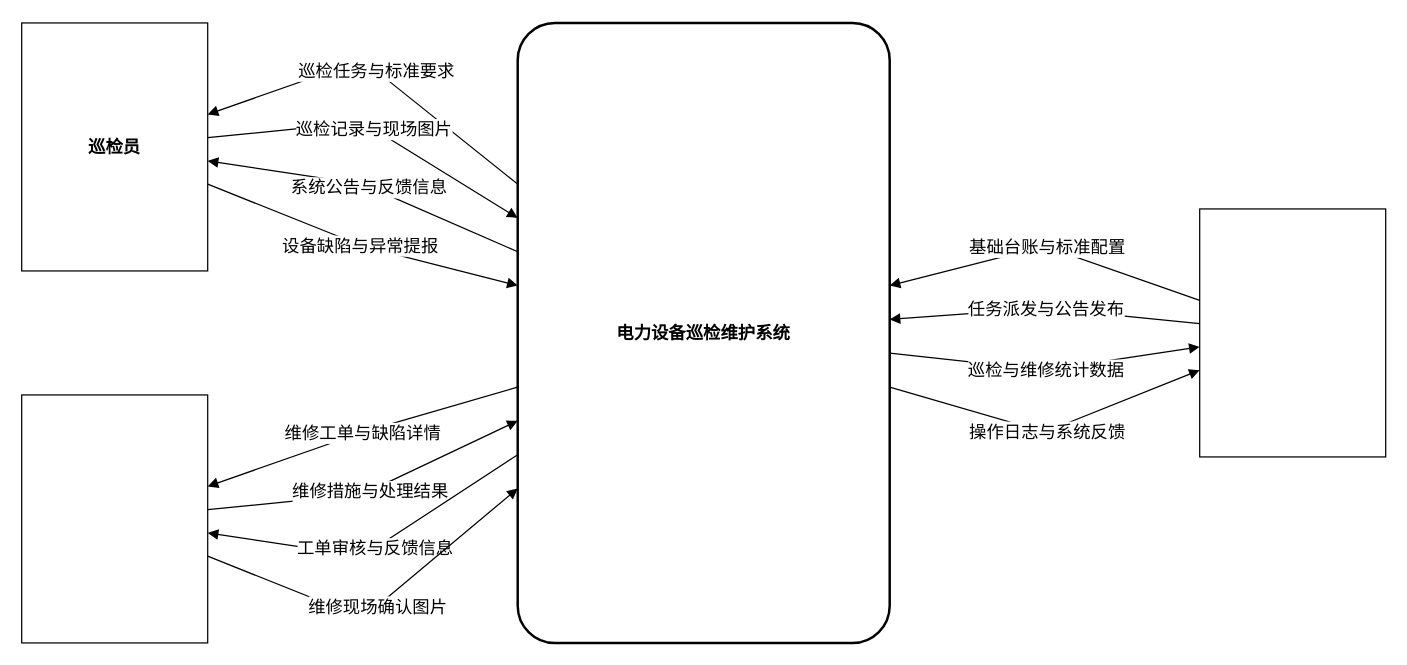
This 1407x665 diagram has some shape labels left out. The shapes that lost their labels are listed below. From the top down, each one's box as (x1, y1, x2, y2) in pixels, then its label:
(1198, 208, 1386, 457): 管理员
(20, 394, 208, 643): 维护员
